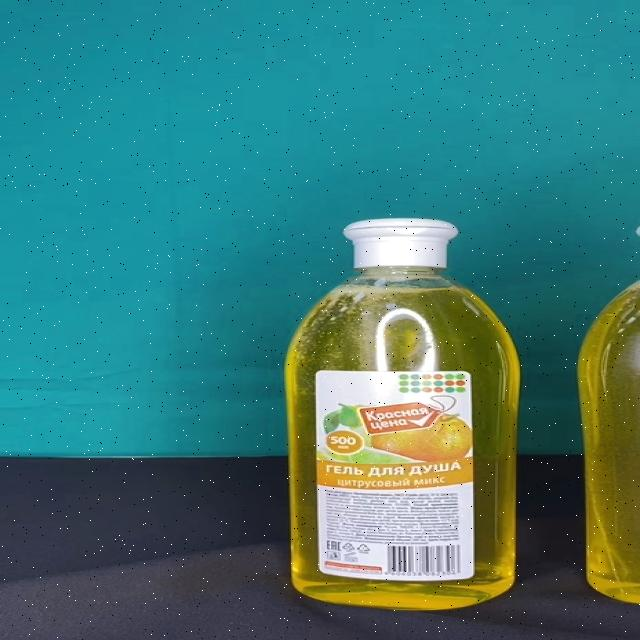Bottle: (284, 216, 520, 610)
Cap: (344, 217, 459, 268)
